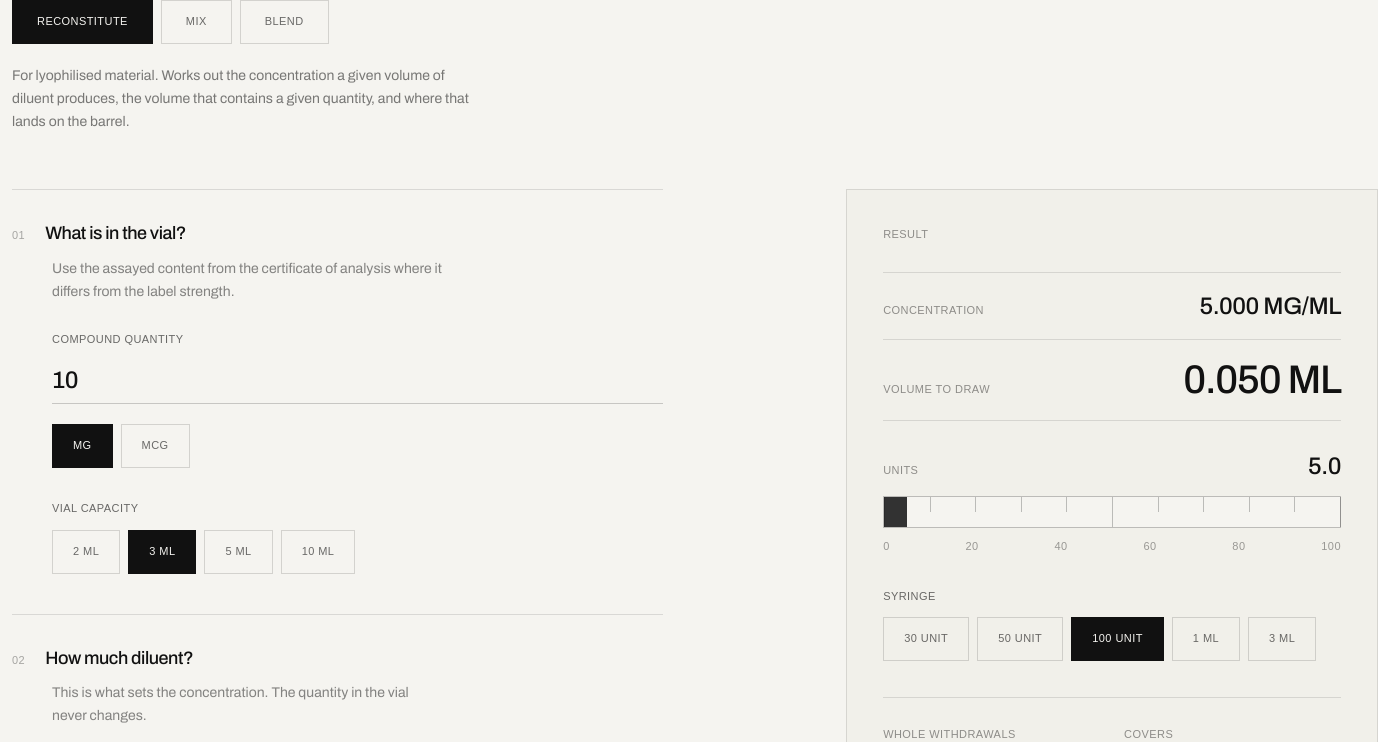
Test: blend › adds and removes components
The width and height of the screenshot is (1378, 742).
Click the tab "Blend" at (284, 22), box [240,0,329,44]
(page scrolled)
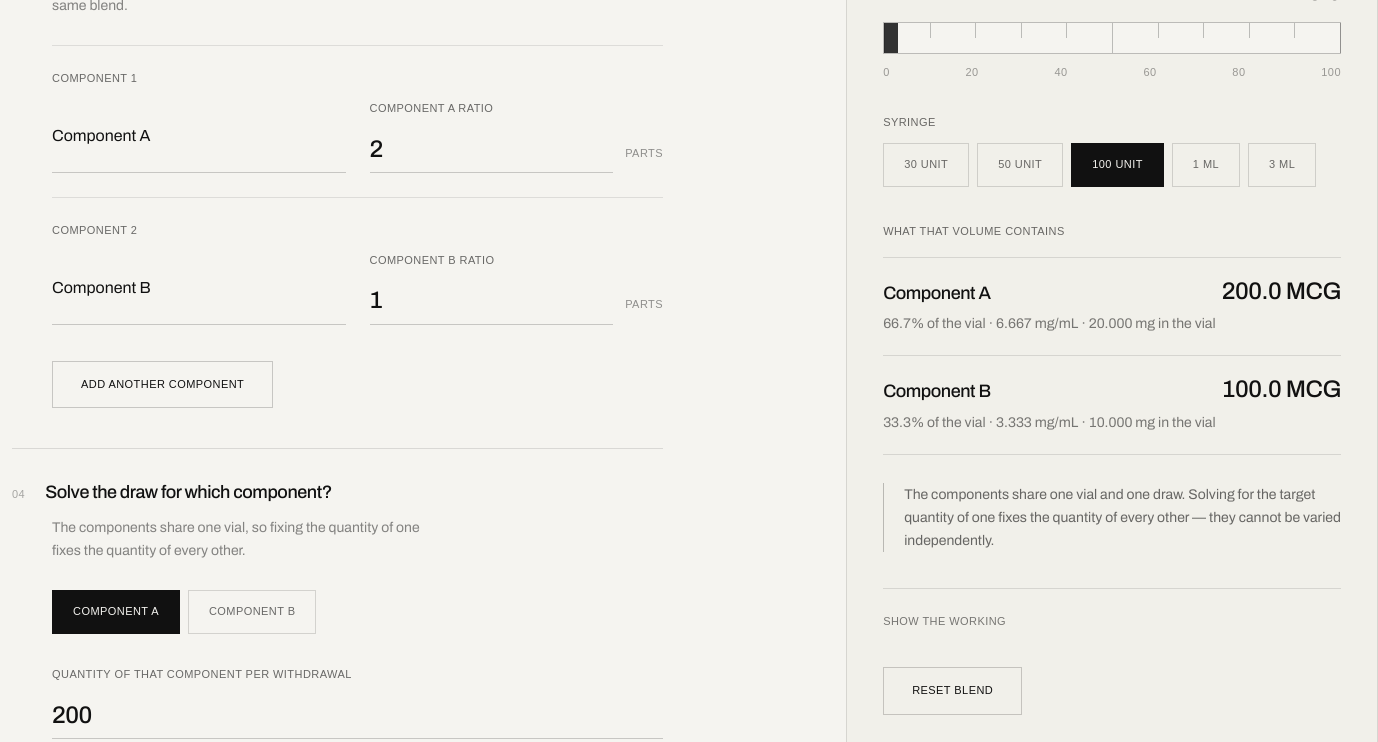
Click the button "Add another component" at (163, 384), box [52,361,273,408]
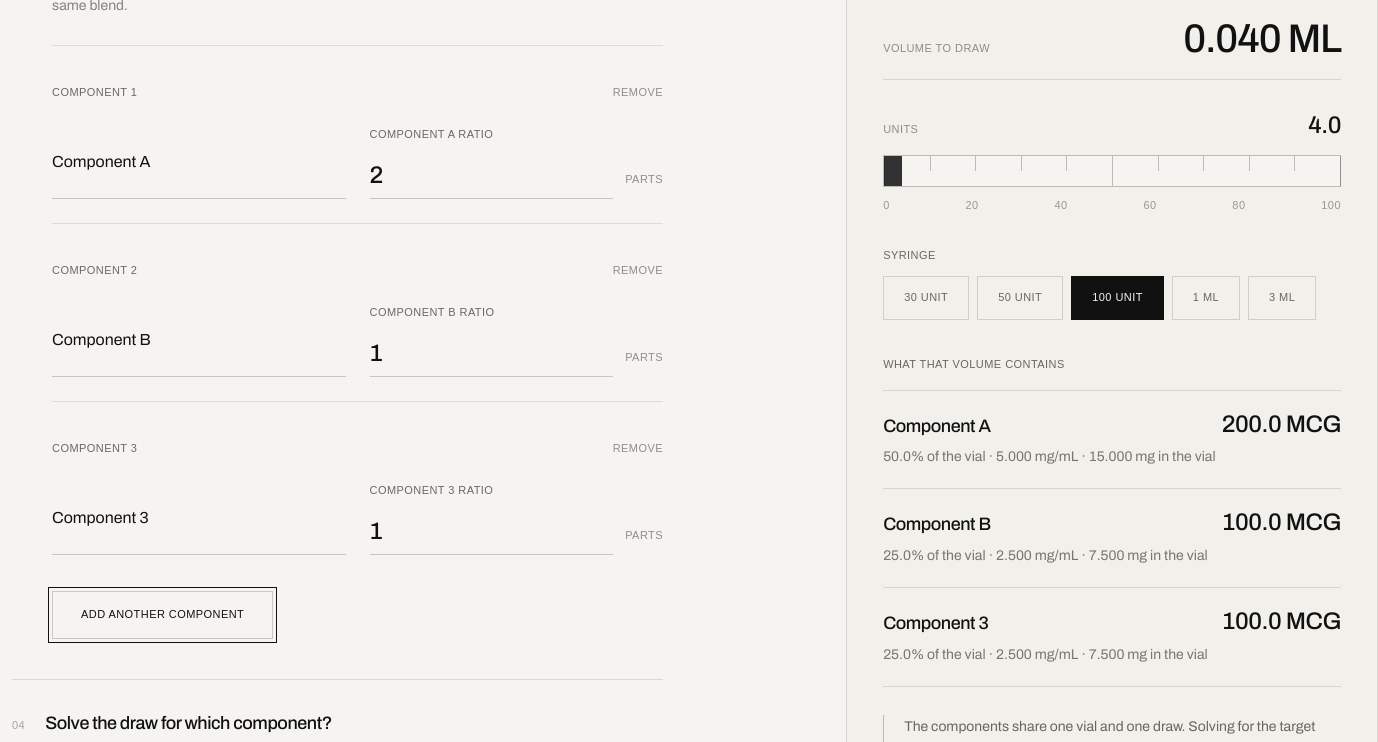
Result: the number field labelled "Component 3 ratio" is shown at [370,508,613,555]
Click the button named "remove component 3" at (638, 448), box [613,426,663,470]
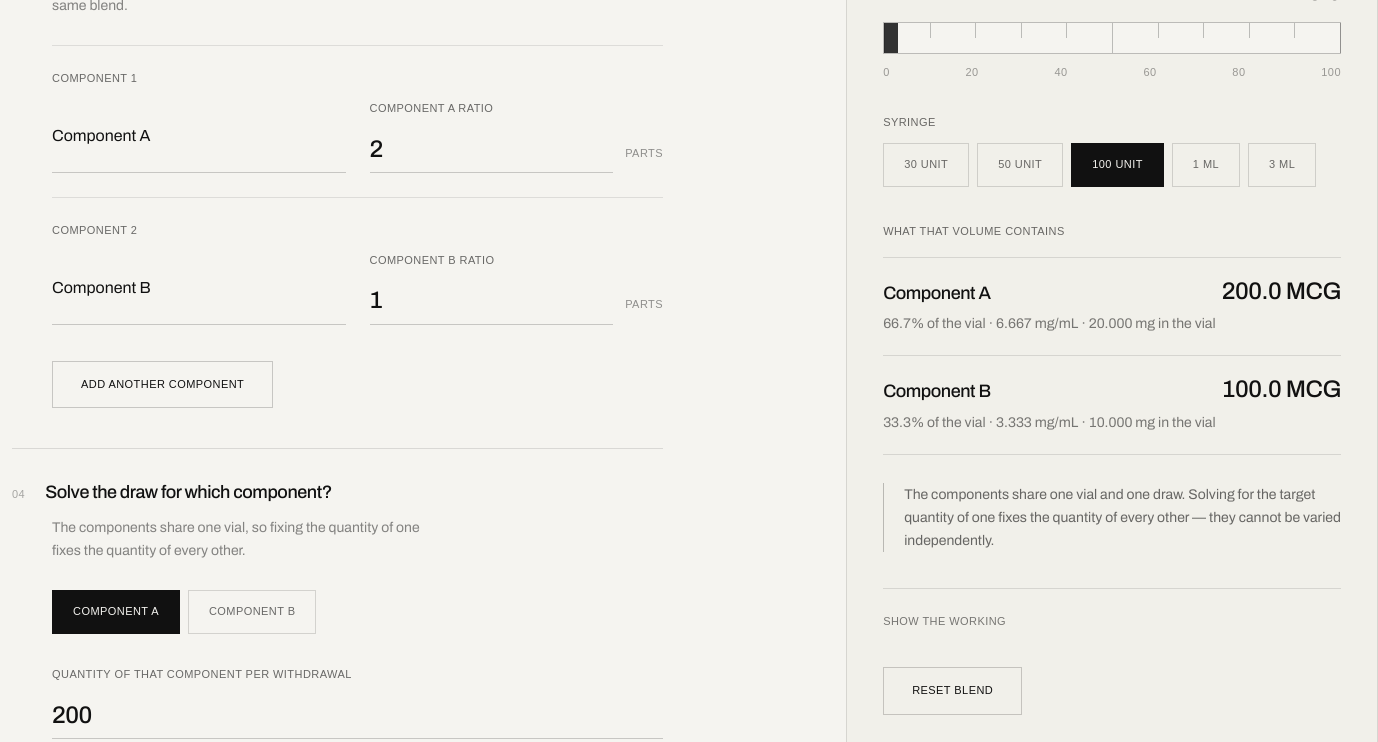
Result: the label labelled "Component 3 ratio" is gone
